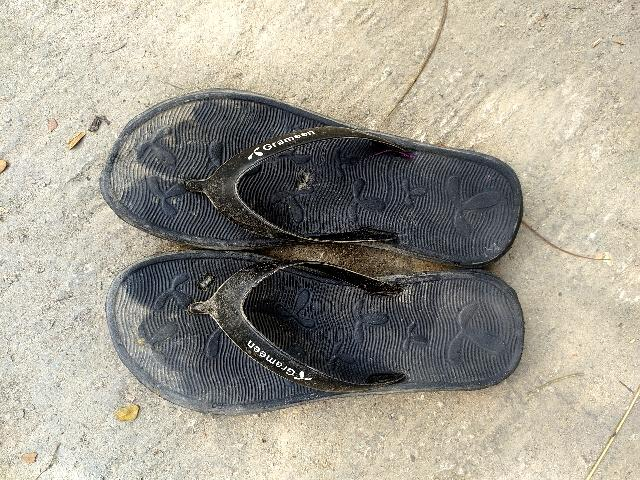sandal: (81, 60, 534, 293), (92, 255, 528, 434)
